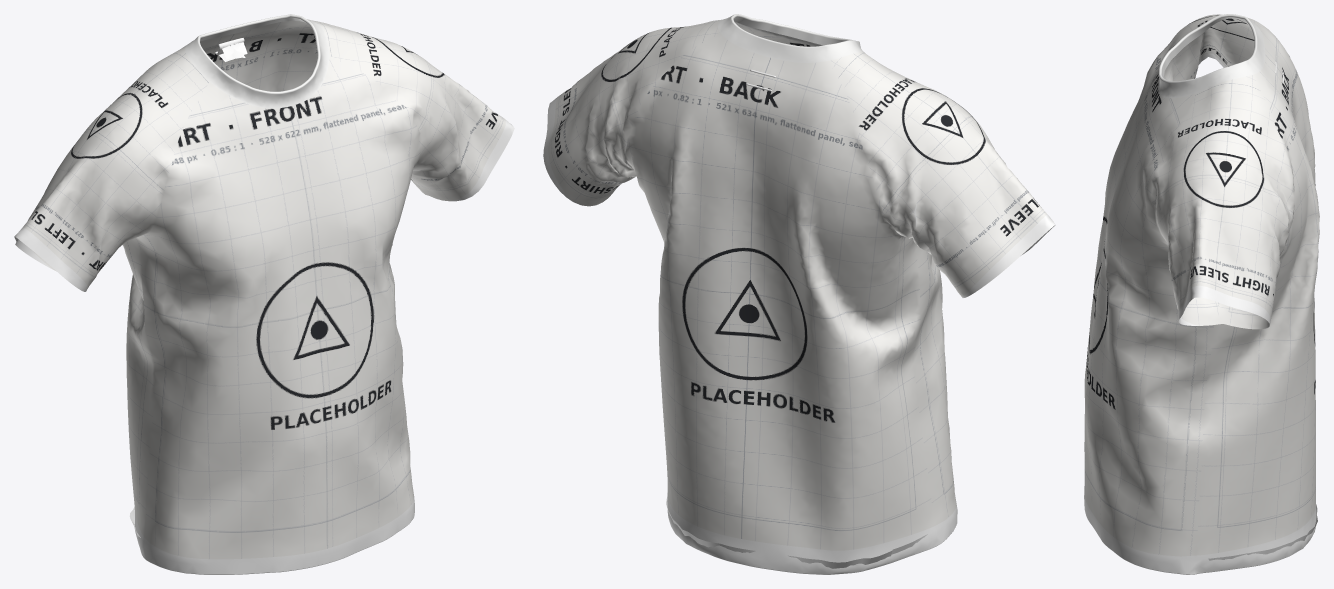
File: tshirt.glb
3 renders of one model, left to right at view 1: azimuth 30°, elevation 25°; view 2: azimuth 150°, elevation 25°; view 3: azimuth 270°, elevation 25°, orthographic. The views are drawn at different scales.
Visible parts, largest first — view 1: Body_Back_2_Node_70; view 2: Body_Back_2_Node_70; view 3: Body_Back_2_Node_70.
Part boxes in pixels (x1=…): Body_Back_2_Node_70: x1=14, y1=14, x2=514, y2=574; Body_Back_2_Node_70: x1=543, y1=14, x2=1055, y2=574; Body_Back_2_Node_70: x1=1084, y1=14, x2=1319, y2=574.
Size of the model in its own units: 0.6858 by 0.6514 by 0.2894.
8 materials, 4 textured.
